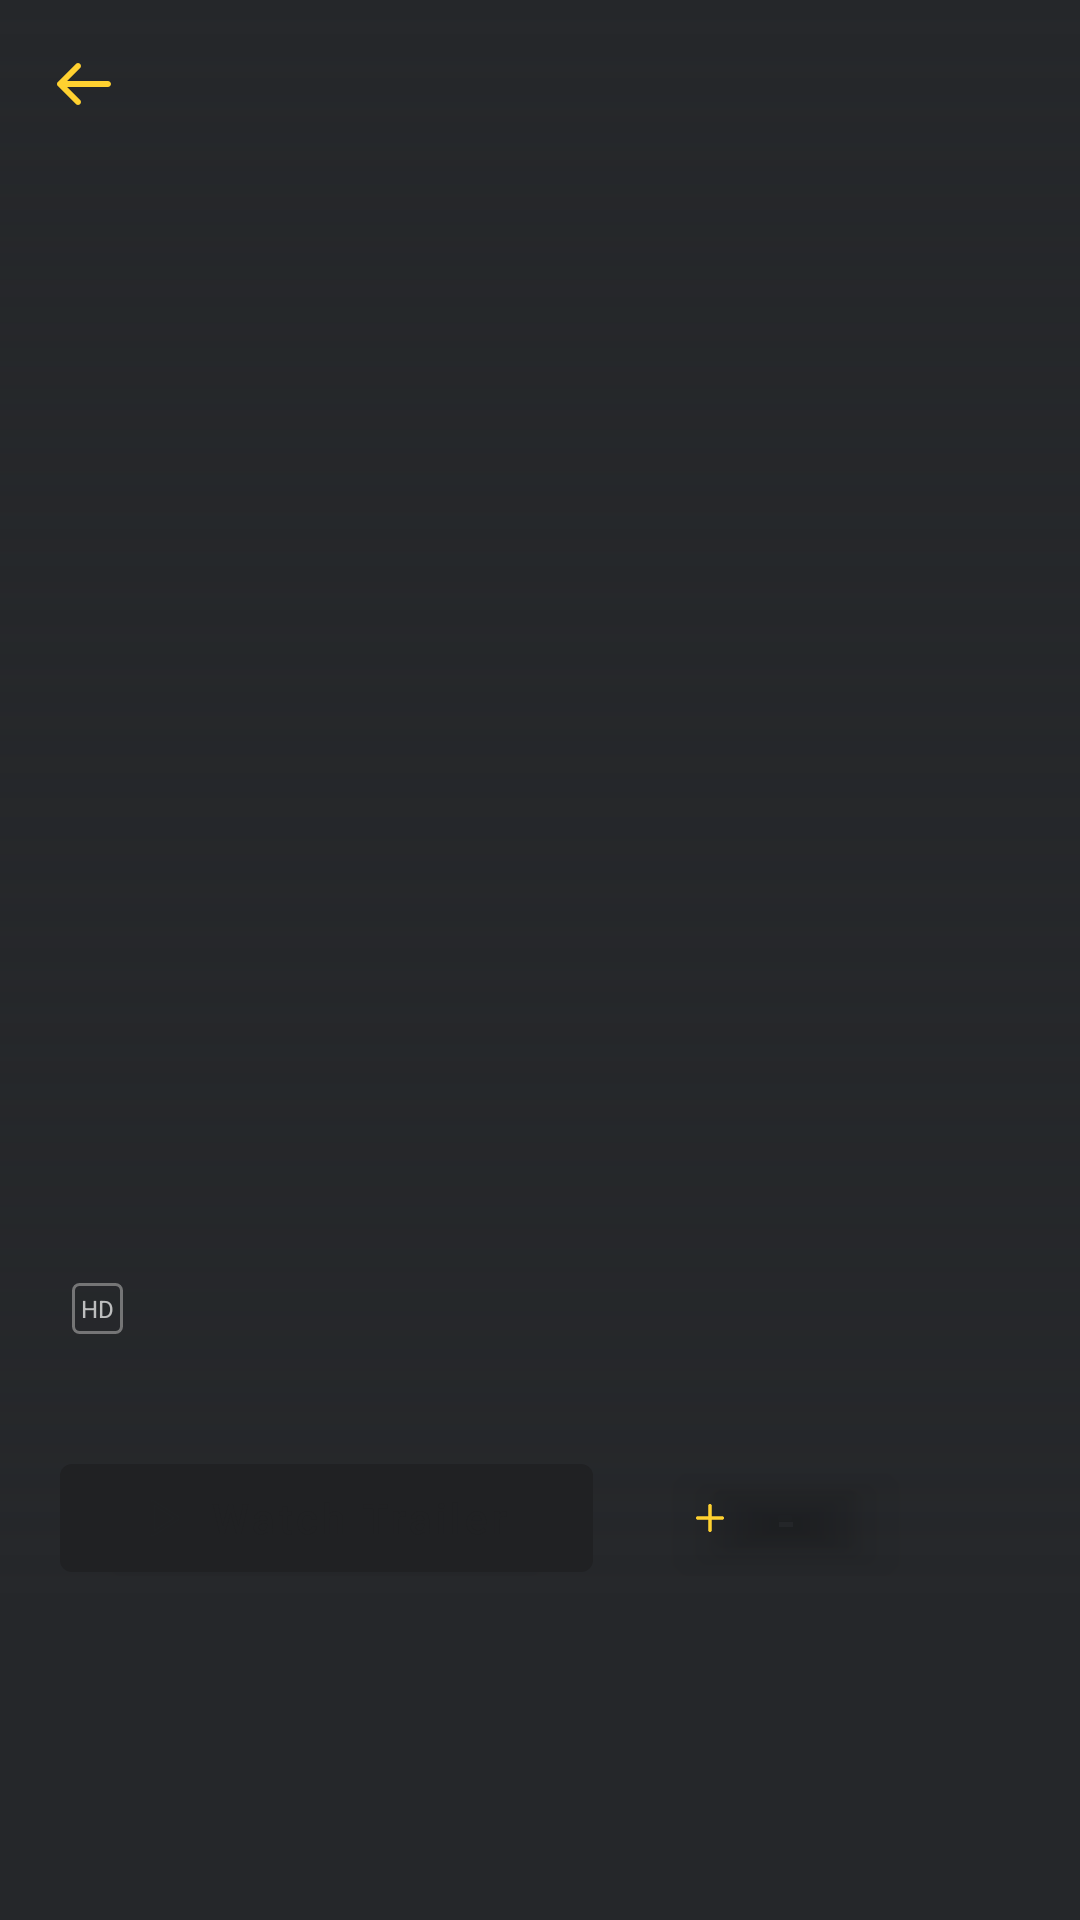

Icons on this 1080*1920 Android screen, each with the point to tap as (x=x, y=y):
add: (x=710, y=1518)
back: (x=84, y=84)
